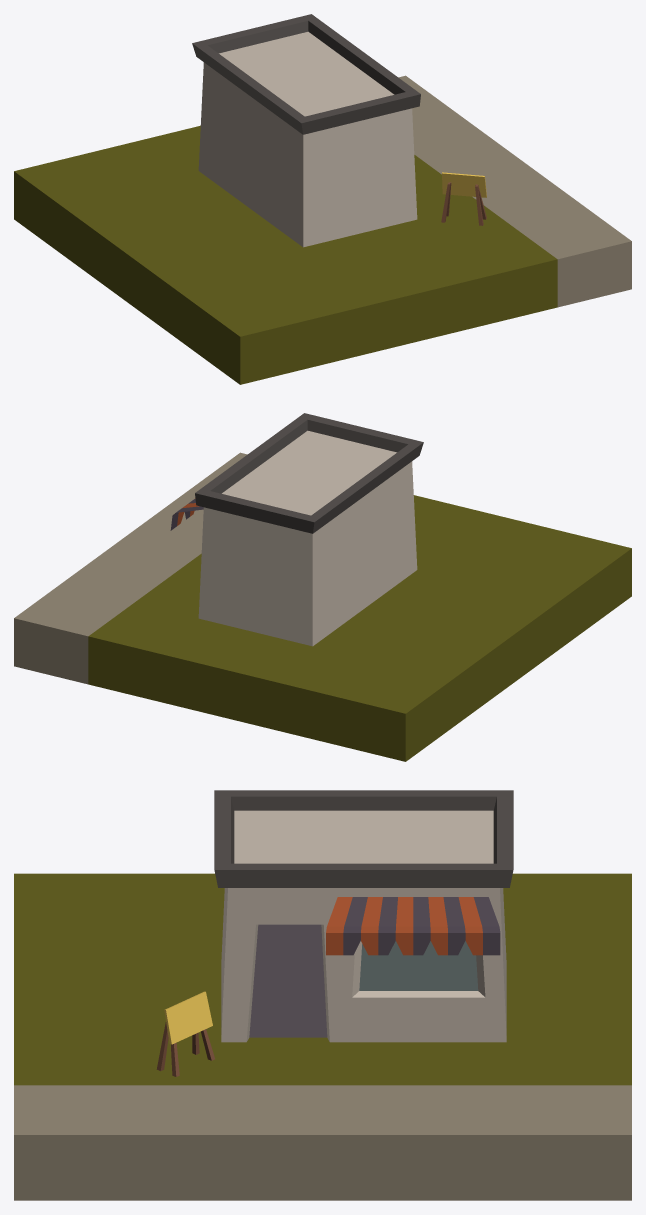
File: Comercio Pequeno.fbx
3 renders of one model, top to bottom at view 1: azimuth 30°, elevation 25°; view 2: azimuth 150°, elevation 25°; view 3: azimuth 270°, elevation 25°, orthographic. The views are drawn at different scales.
Visible parts, largest first — view 1: Comércio Pequeno; view 2: Comércio Pequeno; view 3: Comércio Pequeno.
Boxes of the visible parts, x1,y1,x2,y2 form: Comércio Pequeno: (14, 14, 631, 384); Comércio Pequeno: (14, 413, 631, 761); Comércio Pequeno: (14, 790, 631, 1200).
Size of the model in its own units: 200 by 85.38 by 200.
